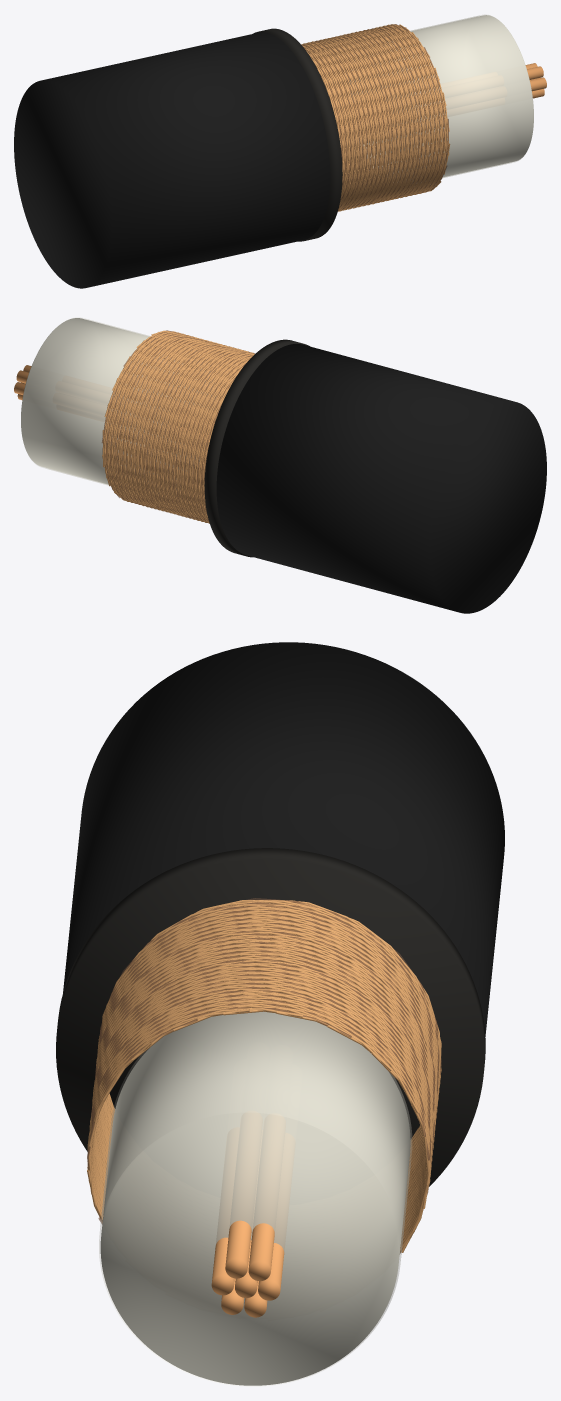
The picture shows the model from 3 angles, top to bottom: view 1: azimuth 30°, elevation 25°; view 2: azimuth 150°, elevation 25°; view 3: azimuth 270°, elevation 25°; orthographic projection. The views are drawn at different scales.
Visible parts, largest first — view 1: matte black pvc jacket body, gas injected foam dielectric, smooth dielectric skin, jacket cut lip, braid left hand carrier 14, braid left hand carrier 11, braid left hand carrier 15, braid left hand carrier 12, braid left hand carrier 09, braid left hand carrier 08, braid left hand carrier 17, braid left hand carrier 06 (+32 smaller); view 2: matte black pvc jacket body, gas injected foam dielectric, smooth dielectric skin, jacket cut lip, braid left hand carrier 05, braid left hand carrier 08, braid left hand carrier 06, braid left hand carrier 02, braid left hand carrier 09, braid left hand carrier 03, braid left hand carrier 11, braid left hand carrier 20 (+32 smaller); view 3: gas injected foam dielectric, matte black pvc jacket body, jacket cut lip, smooth dielectric skin, braid left hand carrier 09, braid left hand carrier 20, braid left hand carrier 18, braid left hand carrier 12, braid left hand carrier 03, braid left hand carrier 06, braid left hand carrier 15, braid left hand carrier 08 (+30 smaller).
Part boxes in pixels (left/top/right/bottom): matte black pvc jacket body: left=14, top=32, right=330, bottom=288; gas injected foam dielectric: left=349, top=15, right=533, bottom=176; smooth dielectric skin: left=400, top=14, right=533, bottom=177; jacket cut lip: left=253, top=28, right=342, bottom=241; braid left hand carrier 14: left=303, top=24, right=441, bottom=208; braid left hand carrier 11: left=301, top=24, right=437, bottom=209; braid left hand carrier 15: left=306, top=30, right=443, bottom=206; braid left hand carrier 12: left=302, top=24, right=438, bottom=207; braid left hand carrier 09: left=302, top=25, right=434, bottom=209; braid left hand carrier 08: left=303, top=25, right=432, bottom=210; braid left hand carrier 17: left=308, top=29, right=446, bottom=209; braid left hand carrier 06: left=306, top=26, right=429, bottom=210; matte black pvc jacket body: left=216, top=344, right=546, bottom=613; gas injected foam dielectric: left=21, top=318, right=216, bottom=489; smooth dielectric skin: left=21, top=317, right=150, bottom=485; jacket cut lip: left=204, top=339, right=309, bottom=557; braid left hand carrier 05: left=108, top=334, right=243, bottom=521; braid left hand carrier 08: left=104, top=333, right=247, bottom=523; braid left hand carrier 06: left=107, top=334, right=244, bottom=522; braid left hand carrier 02: left=112, top=336, right=248, bottom=517; braid left hand carrier 09: left=102, top=333, right=249, bottom=522; braid left hand carrier 03: left=111, top=335, right=249, bottom=518; braid left hand carrier 11: left=104, top=332, right=251, bottom=522; braid left hand carrier 20: left=116, top=336, right=254, bottom=519; gas injected foam dielectric: left=100, top=1011, right=410, bottom=1385; matte black pvc jacket body: left=63, top=642, right=504, bottom=1036; jacket cut lip: left=56, top=848, right=485, bottom=1186; smooth dielectric skin: left=99, top=1012, right=411, bottom=1386; braid left hand carrier 09: left=88, top=916, right=439, bottom=1208; braid left hand carrier 20: left=87, top=904, right=440, bottom=1218; braid left hand carrier 18: left=87, top=900, right=440, bottom=1182; braid left hand carrier 12: left=88, top=920, right=441, bottom=1161; braid left hand carrier 03: left=93, top=908, right=440, bottom=1162; braid left hand carrier 06: left=89, top=912, right=439, bottom=1167; braid left hand carrier 15: left=88, top=901, right=440, bottom=1166; braid left hand carrier 08: left=89, top=914, right=439, bottom=1252.
Bounding box in the file's own units: 6.56 × 2.6 × 2.72.
